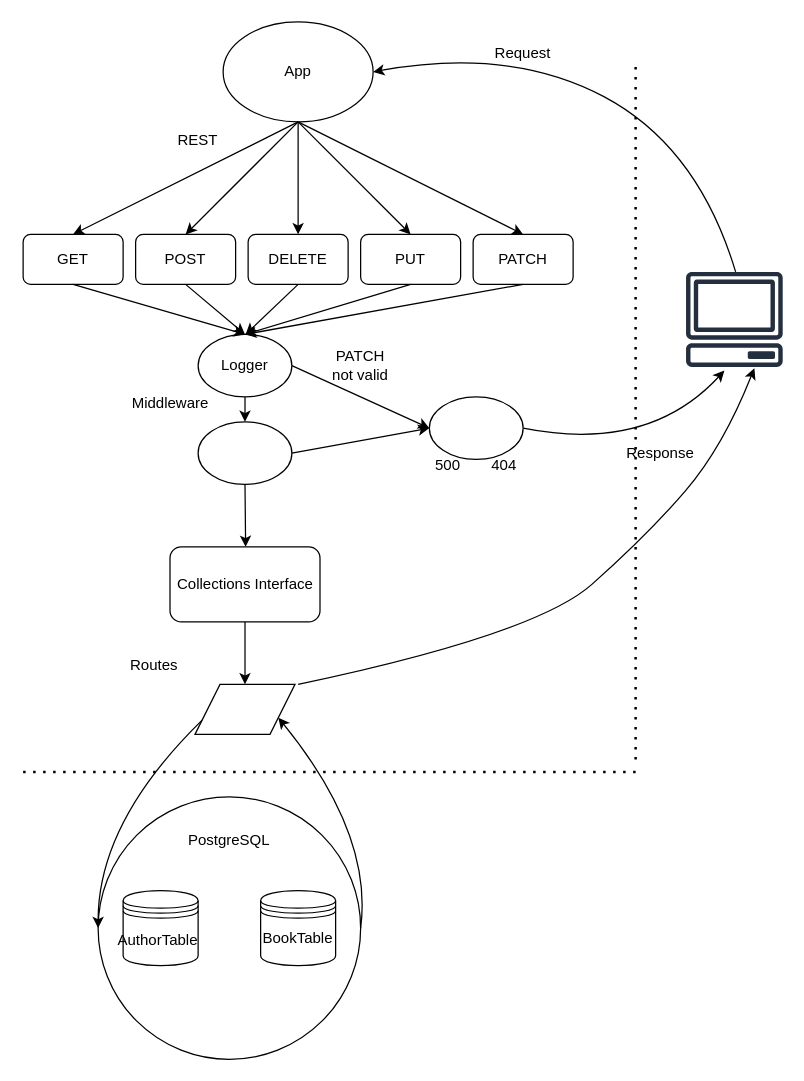
This 804x1081 diagram has some shape labels left out. Each missing label, with the centre of its shape:
"/api" goes at point 244,708.
"Client" goes at point 733,318.
"Error-handler" goes at point 475,427.
"Validator" goes at point 244,452.
